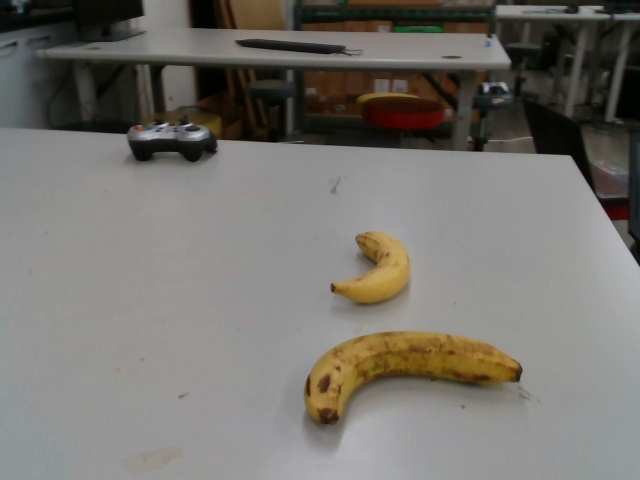banana: (303, 329, 524, 424), (330, 231, 411, 307)
